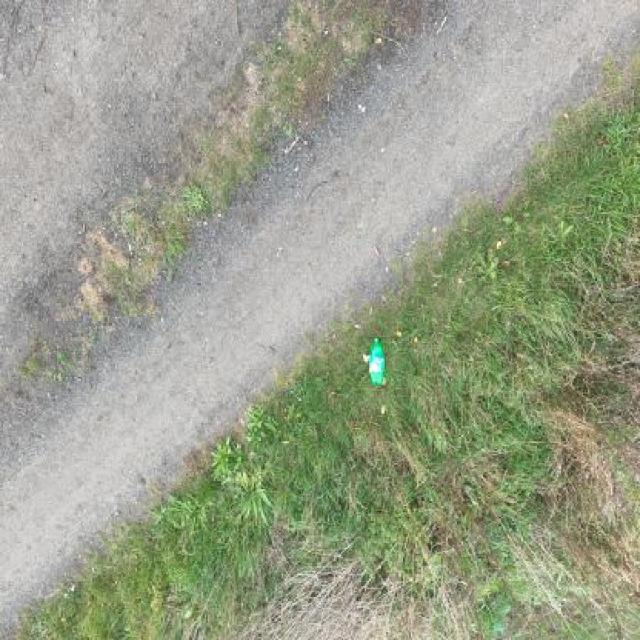Garbage: (254, 253, 272, 302)
